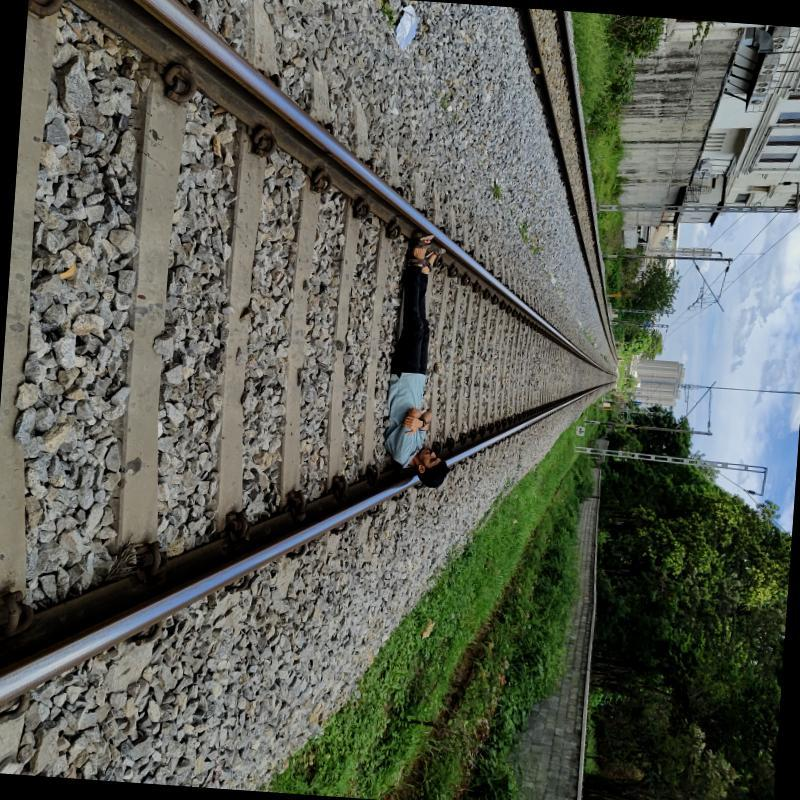sleeping: (383, 226, 469, 488)
